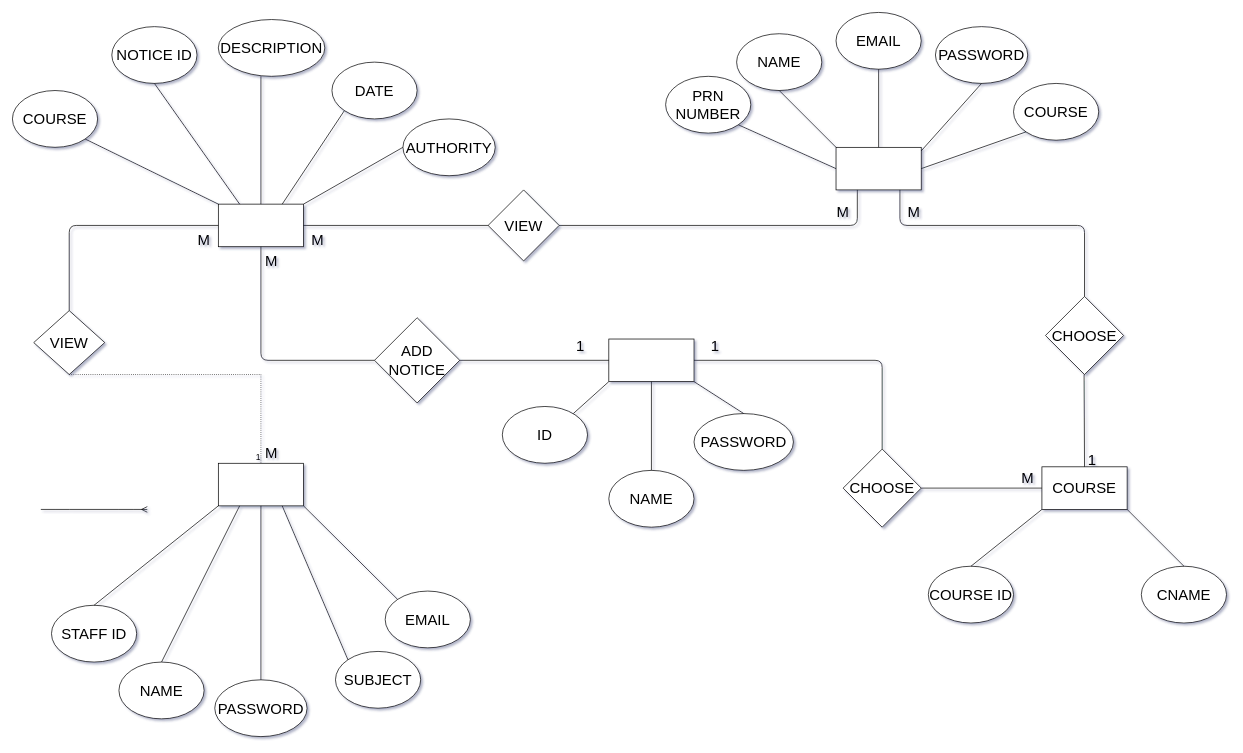
The diagram is 1243 pixels wide and 753 high, and some of its shapes have lost their labels. Here are the shapes that lost their labels. From the top down, the centre of each, then its label:
At pixel 878 168: "STUDENT".
At pixel 261 225: "NOTICE".
At pixel 651 360: "ADMIN".
At pixel 261 484: "STAFF".
